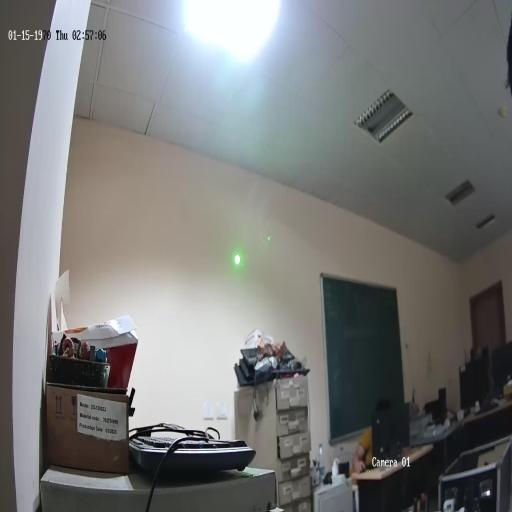laser: (232, 250, 242, 268)
